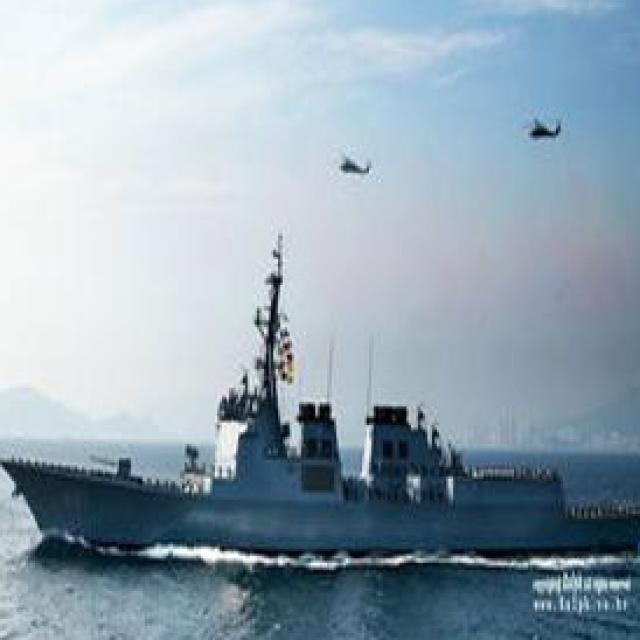navalvessels: (0, 215, 635, 556)
